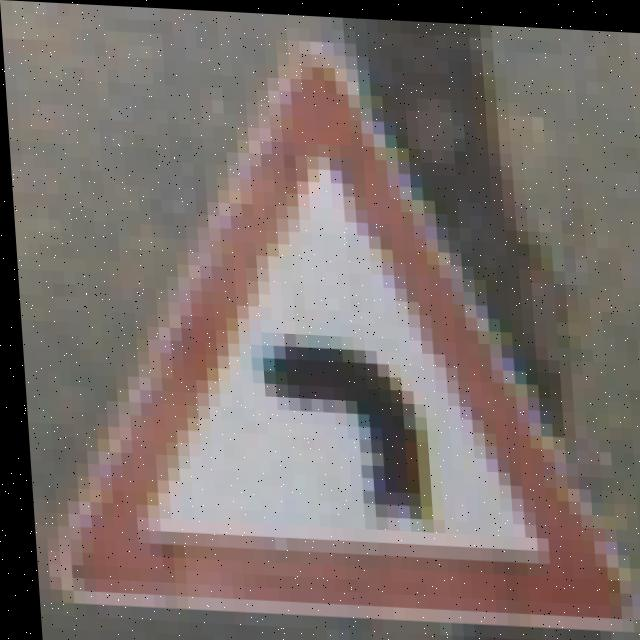left_turn: (38, 55, 640, 629)
